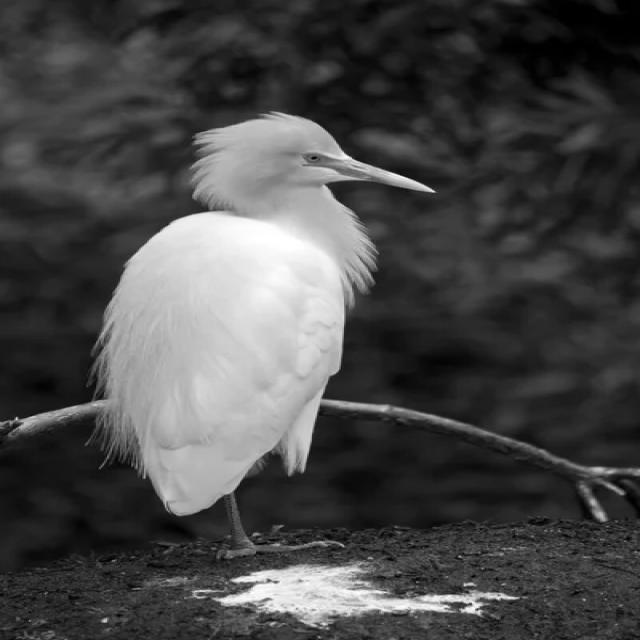Animal: (94, 112, 433, 561)
